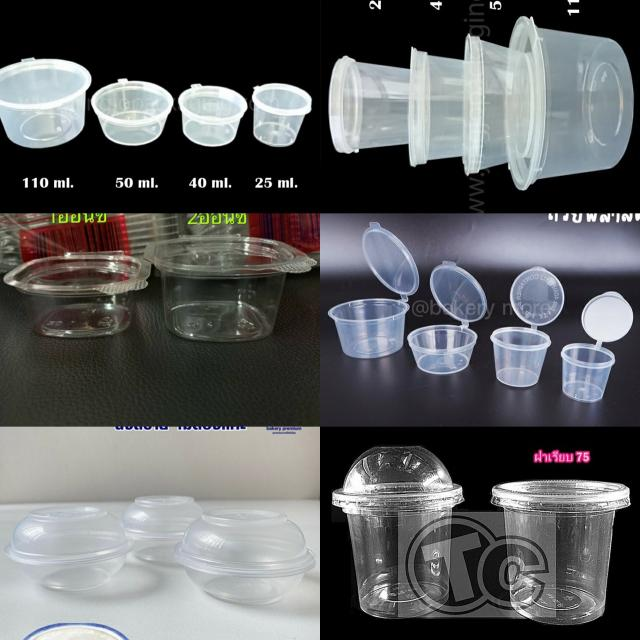Single-Use-Plastic: (332, 446, 463, 618), (504, 16, 633, 190), (492, 480, 630, 624), (145, 236, 315, 341), (175, 509, 315, 604), (4, 252, 151, 338), (328, 222, 419, 359), (4, 506, 134, 591), (462, 35, 532, 175), (490, 266, 564, 387), (408, 261, 487, 374), (560, 291, 633, 402), (0, 58, 91, 147), (329, 56, 410, 153), (408, 48, 463, 166), (121, 495, 203, 562), (91, 79, 174, 145), (179, 84, 248, 146), (251, 84, 311, 146)
